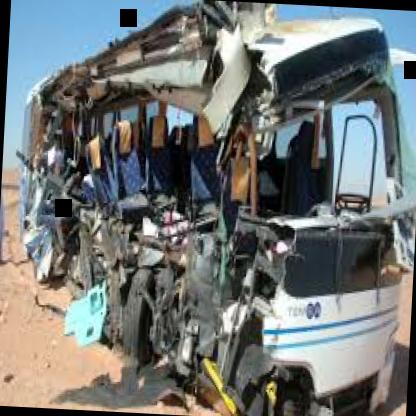accident: (6, 6, 416, 412)
